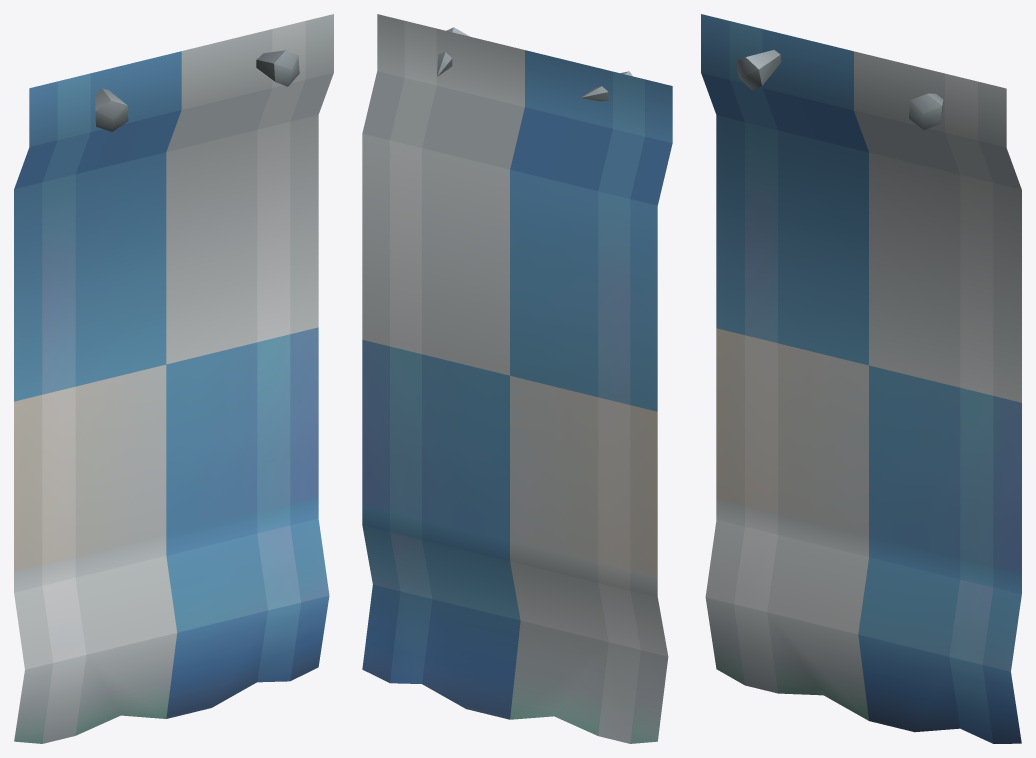
The model's file is banner_blue.glb.
3 views of the same model, side by side, from view 1: azimuth 30°, elevation 25°; view 2: azimuth 150°, elevation 25°; view 3: azimuth 330°, elevation 25° (orthographic). The views are drawn at different scales.
Parts seen in each view (by area): view 1: banner_patternA_blue; view 2: banner_patternA_blue; view 3: banner_patternA_blue.
Part boxes in pixels (bbox=[...]): banner_patternA_blue: bbox=[14, 14, 333, 743]; banner_patternA_blue: bbox=[362, 14, 672, 743]; banner_patternA_blue: bbox=[701, 14, 1021, 743].
Bounding box in the file's own units: 1.5 × 3.2 × 0.3117.
Materials: 1 (1 with a texture image).
